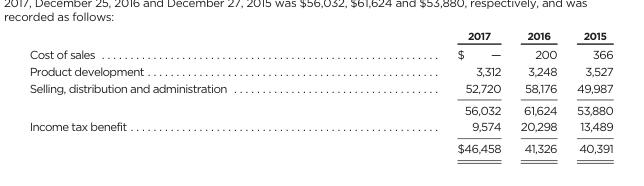table: (28, 28, 612, 155)
table column: (28, 28, 341, 155), (341, 28, 510, 155), (510, 28, 566, 155), (566, 28, 612, 155)
table column header: (28, 28, 612, 43)
table row: (28, 78, 612, 98), (28, 117, 612, 137), (28, 43, 612, 62), (28, 98, 612, 117), (28, 137, 612, 155), (28, 62, 612, 78), (28, 28, 612, 43)
